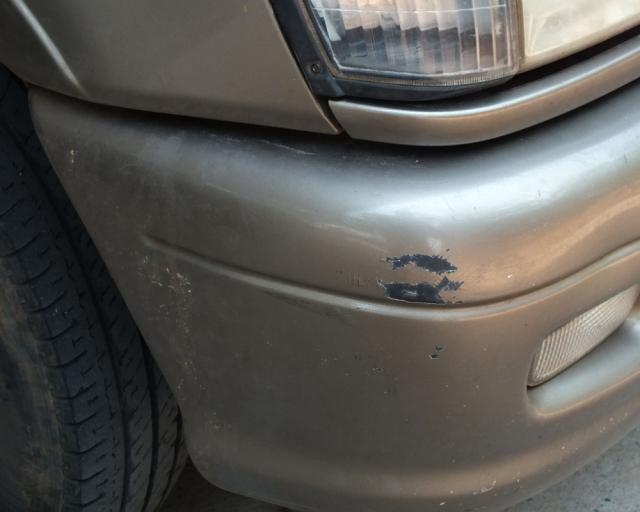scratch: (374, 252, 463, 305)
